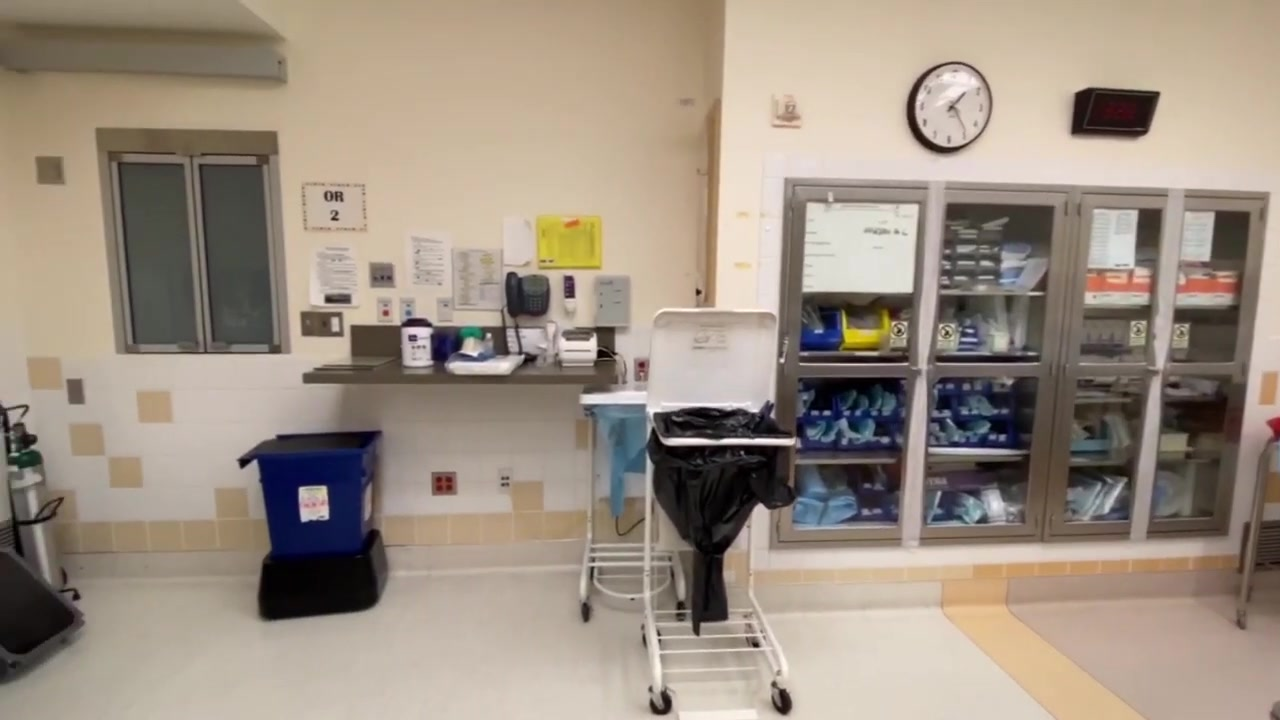cabinet: (772, 168, 1244, 555)
countertop: (306, 350, 618, 389)
handle: (210, 340, 232, 352), (176, 339, 198, 351)
telephone: (506, 273, 552, 317)
waste_bin: (646, 397, 793, 720), (234, 430, 388, 622), (576, 389, 693, 624)
